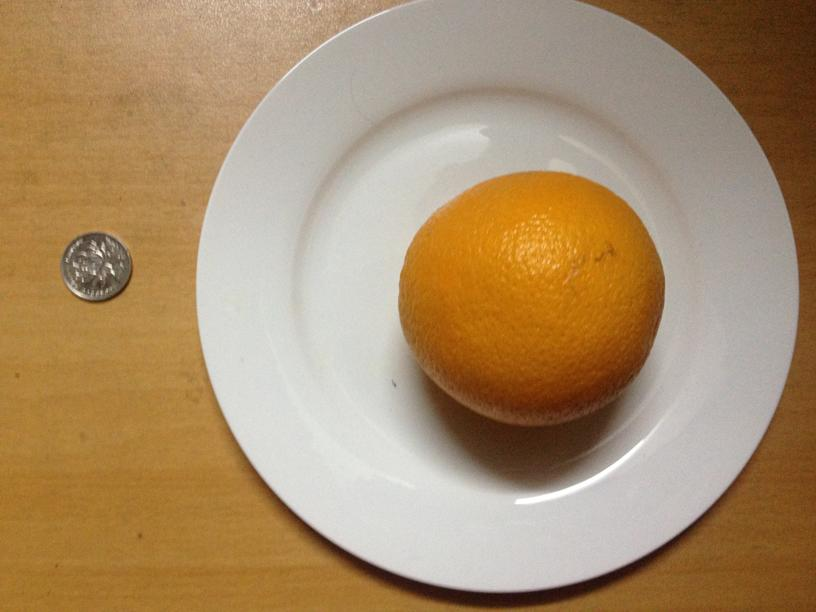coin: (60, 231, 133, 303)
orange: (399, 174, 665, 427)
